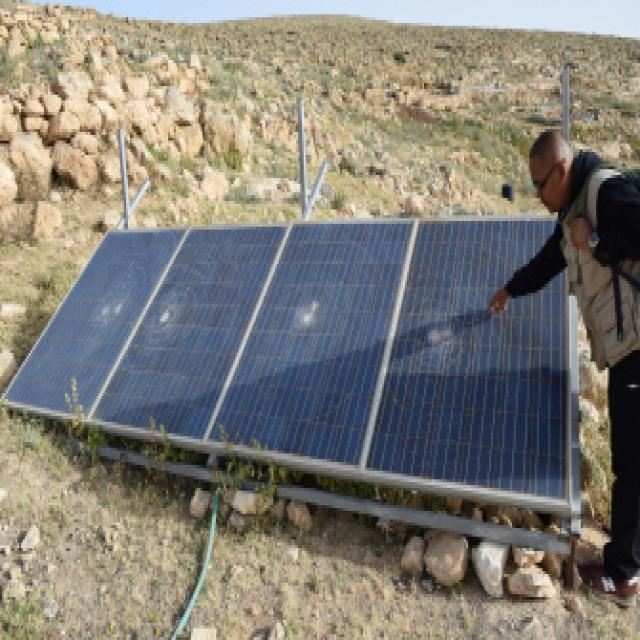faulty: (374, 224, 580, 512), (208, 216, 420, 464), (90, 224, 292, 444), (6, 226, 188, 414), (412, 302, 462, 362), (284, 284, 330, 338), (150, 296, 192, 334), (92, 290, 128, 324)
